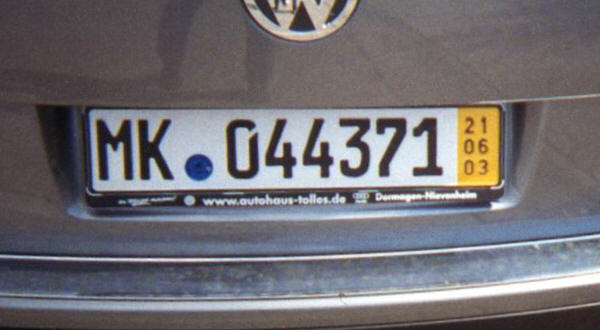license_plate: (83, 105, 508, 193)
